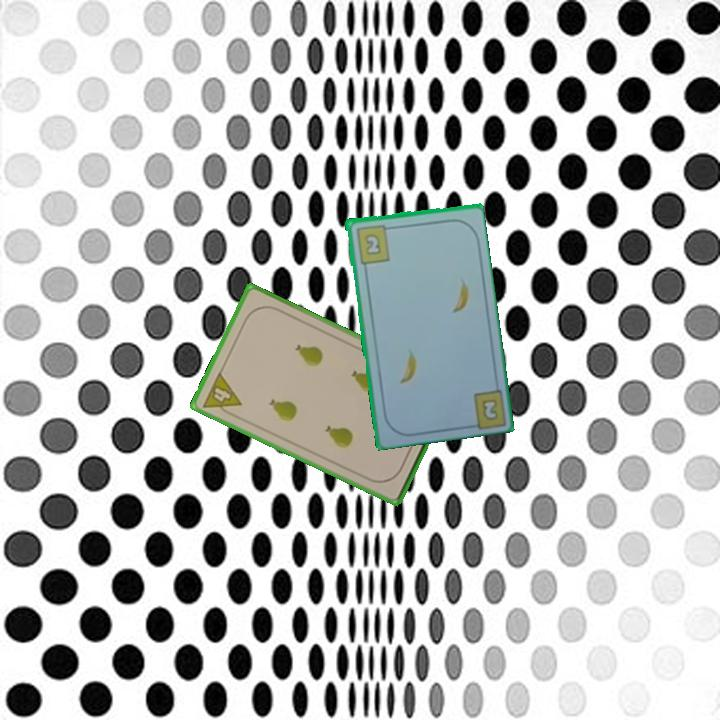2b: (352, 221, 394, 266), (480, 398, 499, 421)
4p: (199, 368, 244, 420)
